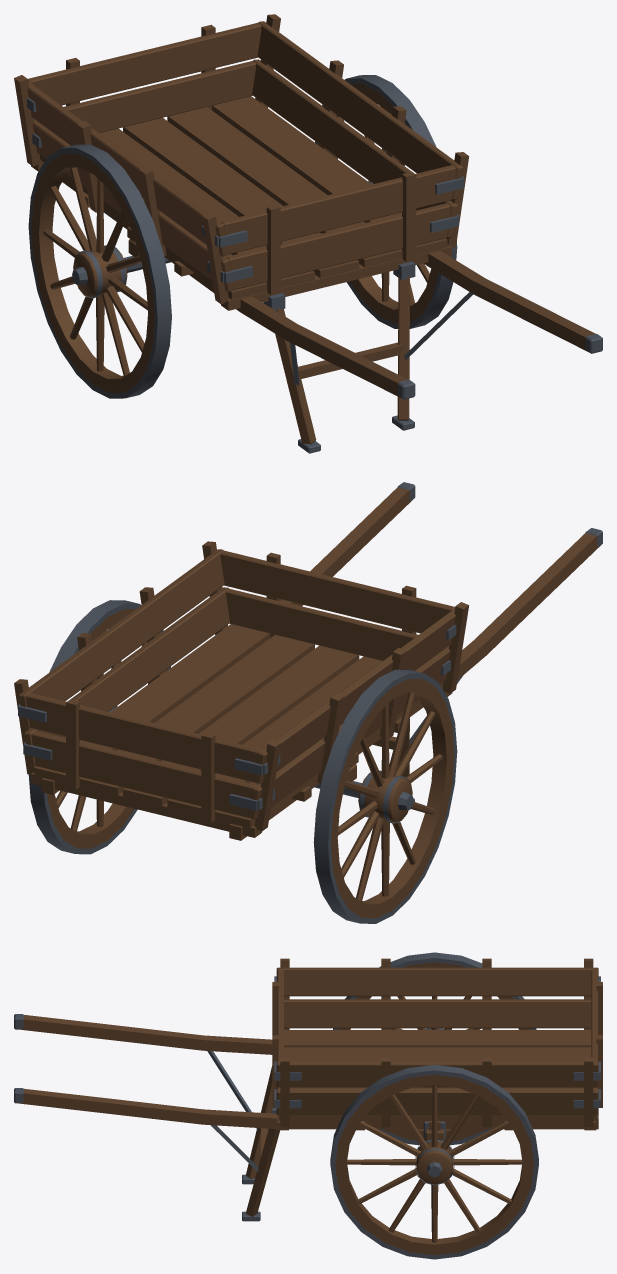
Rendered from HandCart.fbx.
3 renders of one model, top to bottom at view 1: azimuth 30°, elevation 25°; view 2: azimuth 150°, elevation 25°; view 3: azimuth 270°, elevation 25°, orthographic. The views are drawn at different scales.
Visible parts, largest first — view 1: HandCart_Wood, HandCart_Iron; view 2: HandCart_Wood, HandCart_Iron; view 3: HandCart_Wood, HandCart_Iron.
Boxes of the visible parts, x1,y1,x2,y2 form: HandCart_Wood: (14, 14, 595, 444); HandCart_Iron: (27, 75, 602, 453); HandCart_Wood: (14, 486, 600, 918); HandCart_Iron: (18, 482, 602, 923); HandCart_Wood: (17, 958, 602, 1255); HandCart_Iron: (14, 952, 600, 1259).
Size of the model in its own units: 3.7 by 2.51 by 7.
